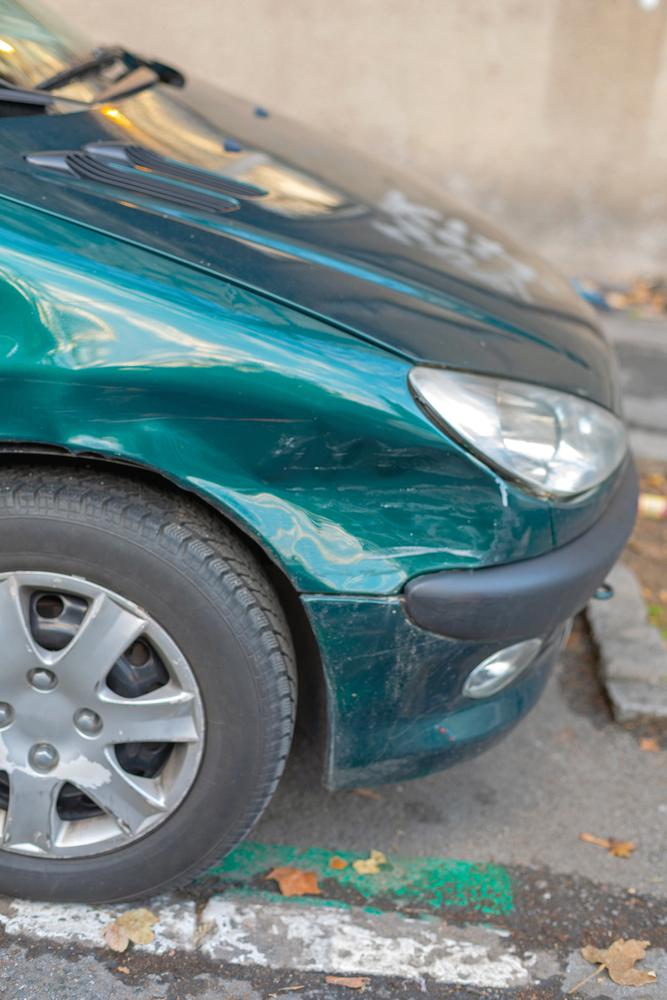dent: (60, 366, 499, 598)
